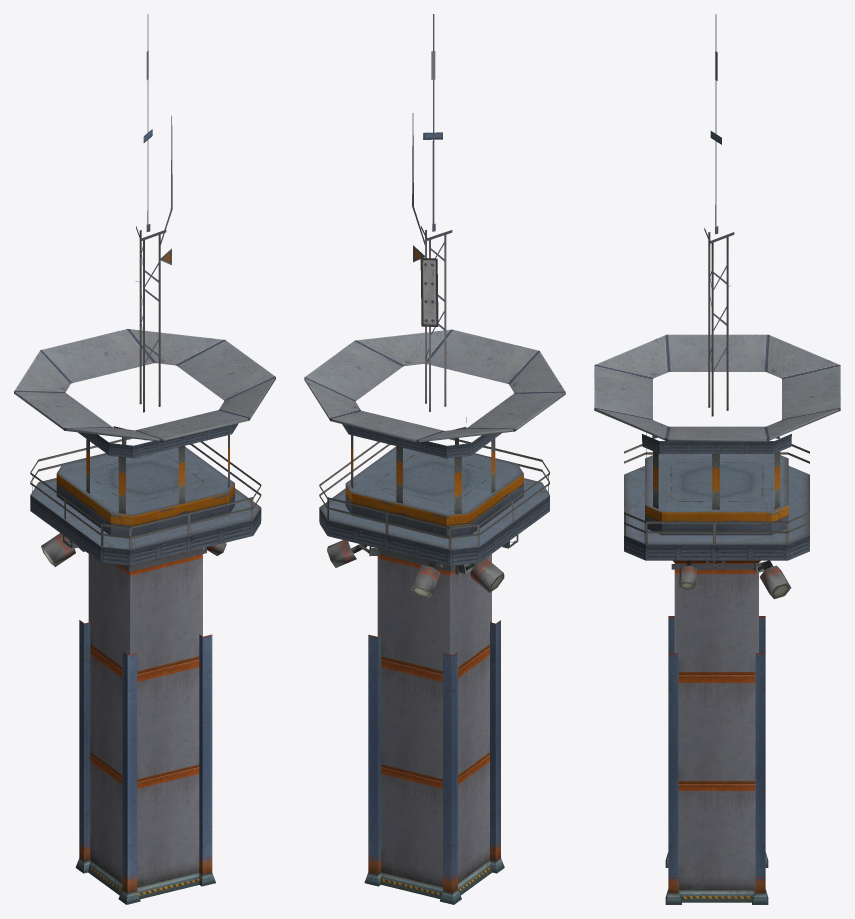
The model's file is Building_TowerHcz01_lod1.glb.
3 views of the same model, side by side, from view 1: azimuth 30°, elevation 25°; view 2: azimuth 150°, elevation 25°; view 3: azimuth 270°, elevation 25° (orthographic).
Visible parts, largest first — view 1: xiutz_tower_hcz_01_lod1; view 2: xiutz_tower_hcz_01_lod1; view 3: xiutz_tower_hcz_01_lod1.
Boxes of the visible parts, box(x1,y1,x2,y2) form: xiutz_tower_hcz_01_lod1: box(14, 14, 275, 904); xiutz_tower_hcz_01_lod1: box(304, 14, 565, 904); xiutz_tower_hcz_01_lod1: box(594, 14, 840, 904).
Bounding box in the file's own units: 31.3 × 122 × 31.3.
1 material, 1 textured.
